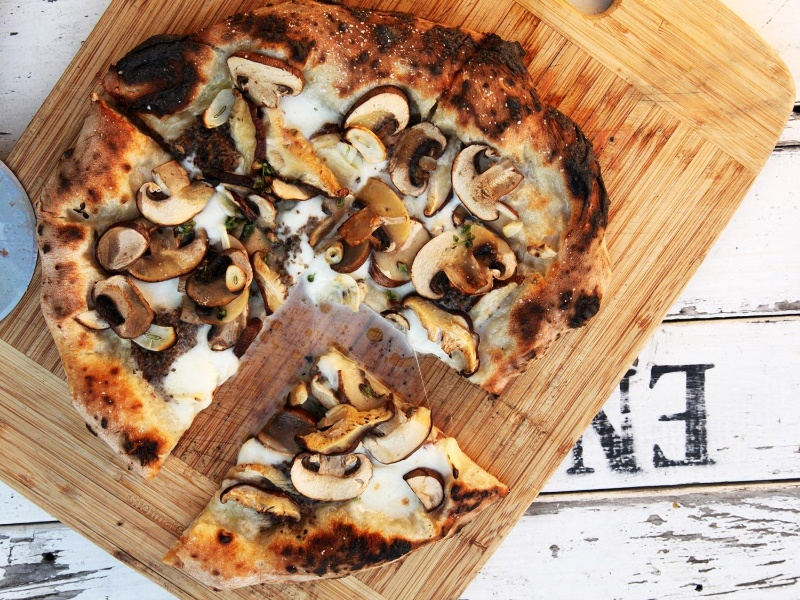champignon: (408, 223, 527, 304), (336, 178, 421, 258), (451, 137, 524, 228), (132, 154, 217, 226), (83, 270, 162, 345), (219, 49, 307, 114), (286, 452, 383, 506), (386, 122, 451, 199)
